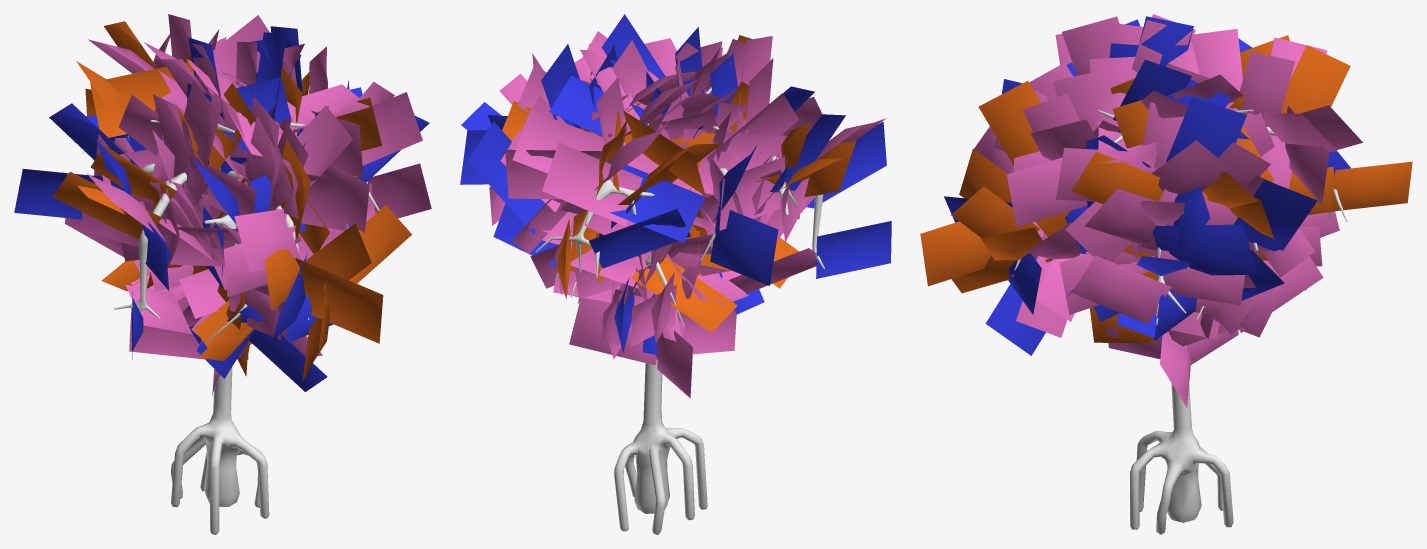
The model's file is swampBoom6.fbx.
3 views of the same model, side by side, from view 1: azimuth 30°, elevation 25°; view 2: azimuth 150°, elevation 25°; view 3: azimuth 270°, elevation 25° (orthographic). The views are drawn at different scales.
Visible parts, largest first — view 1: SwampBoom1_LOD0; view 2: SwampBoom1_LOD0; view 3: SwampBoom1_LOD0.
Part boxes in pixels (x1,y1,x2,y2): SwampBoom1_LOD0: (14, 14, 431, 534); SwampBoom1_LOD0: (460, 14, 891, 534); SwampBoom1_LOD0: (920, 14, 1412, 534).
Size of what is drawn, in the model's own units: 2007 by 2544 by 2291.
